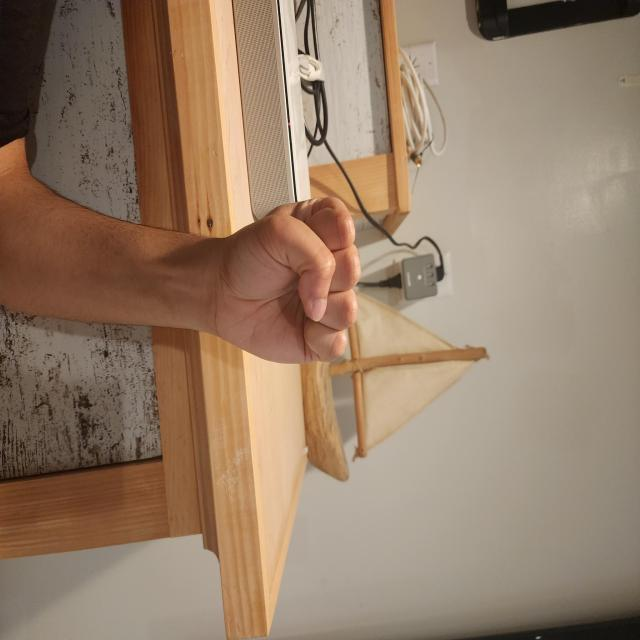S: (306, 368, 434, 580)
